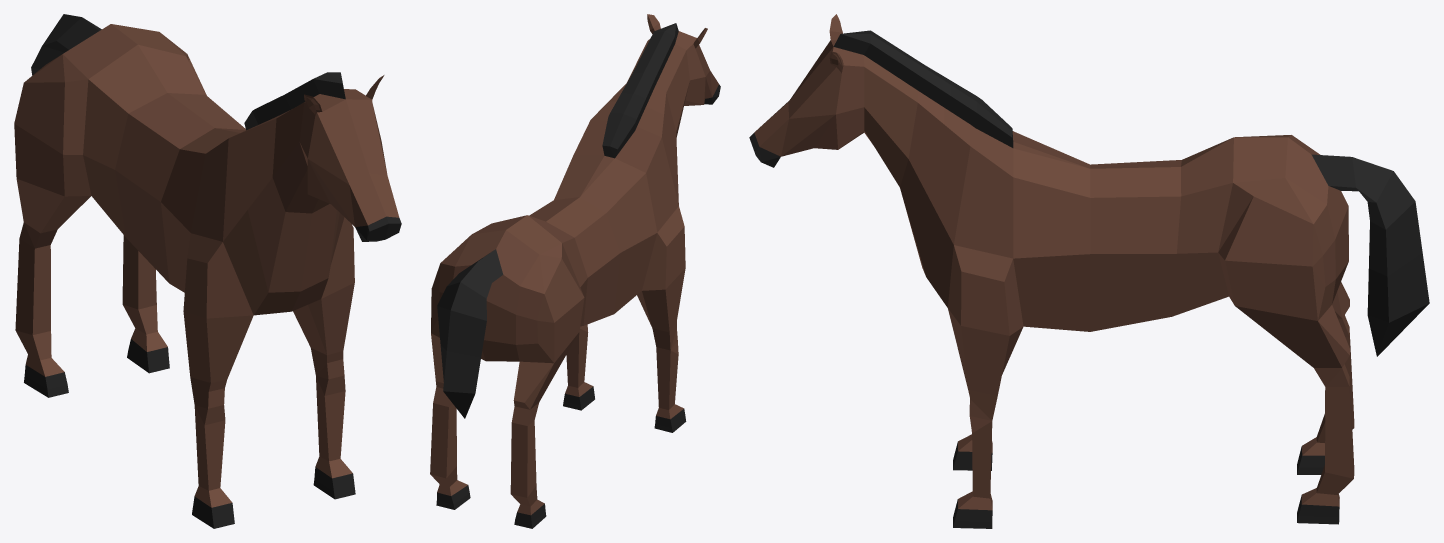
Rendered from Horse.glb.
The picture shows the model from 3 angles, left to right: view 1: azimuth 30°, elevation 25°; view 2: azimuth 150°, elevation 25°; view 3: azimuth 270°, elevation 25°; orthographic projection. The views are drawn at different scales.
Visible parts, largest first — view 1: Horse_Cylinder; view 2: Horse_Cylinder; view 3: Horse_Cylinder.
Boxes of the visible parts, box(x1,y1,x2,y2) form: Horse_Cylinder: box(14, 14, 401, 528); Horse_Cylinder: box(430, 14, 720, 528); Horse_Cylinder: box(749, 14, 1429, 528).
Size of the model in its own units: 2.56 by 6.91 by 9.24.
